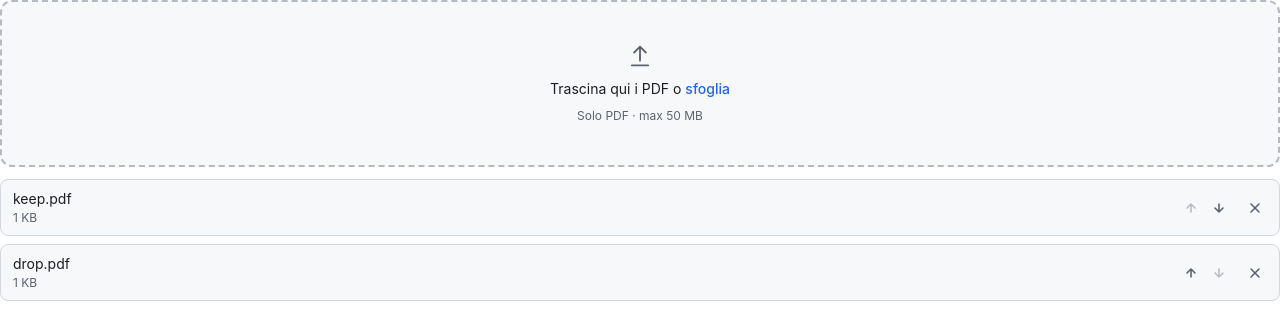
Test: FileDrop › removes a file when its remove button is clicked
The width and height of the screenshot is (1280, 318).
Click the button named "rimuovi". click: [1255, 272]
box: [1243,260,1267,284]
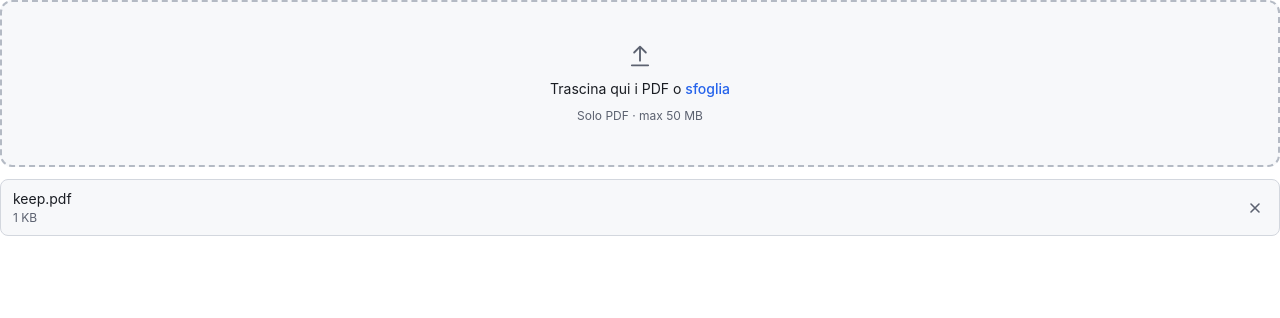
Expected: the text "keep.pdf" is shown, [13,190,72,207]
Result: the text "drop.pdf" is gone
